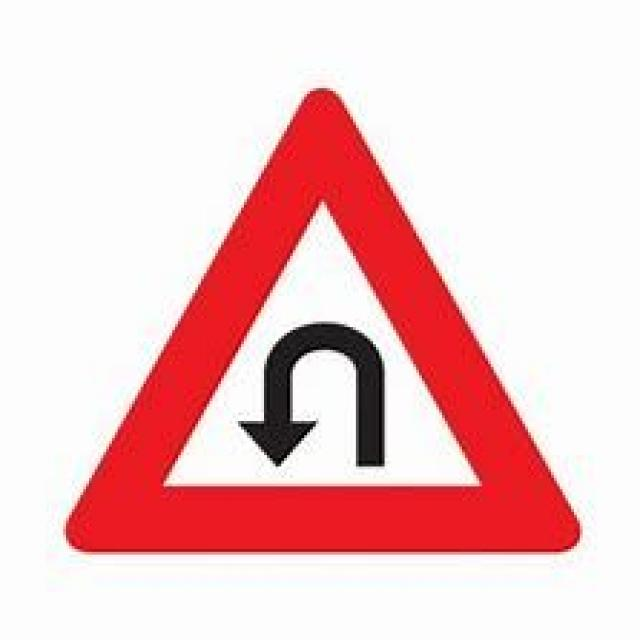LEFT_HAIR_PIN_BEND: (63, 82, 580, 549)
